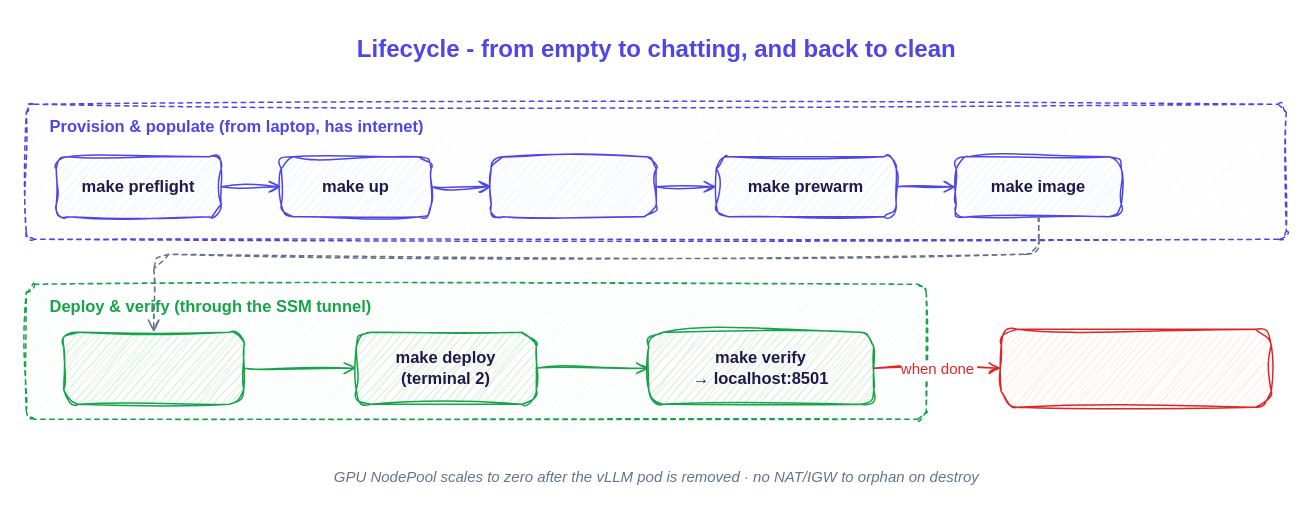
This 1313x513 diagram has some shape labels left out. Each missing label, with the centre of its shape:
"make down (cluster cleanup → destroy)" goes at (1135,367).
"make stage" goes at (573,186).
"make tunnel (terminal 1)" goes at (153,367).
